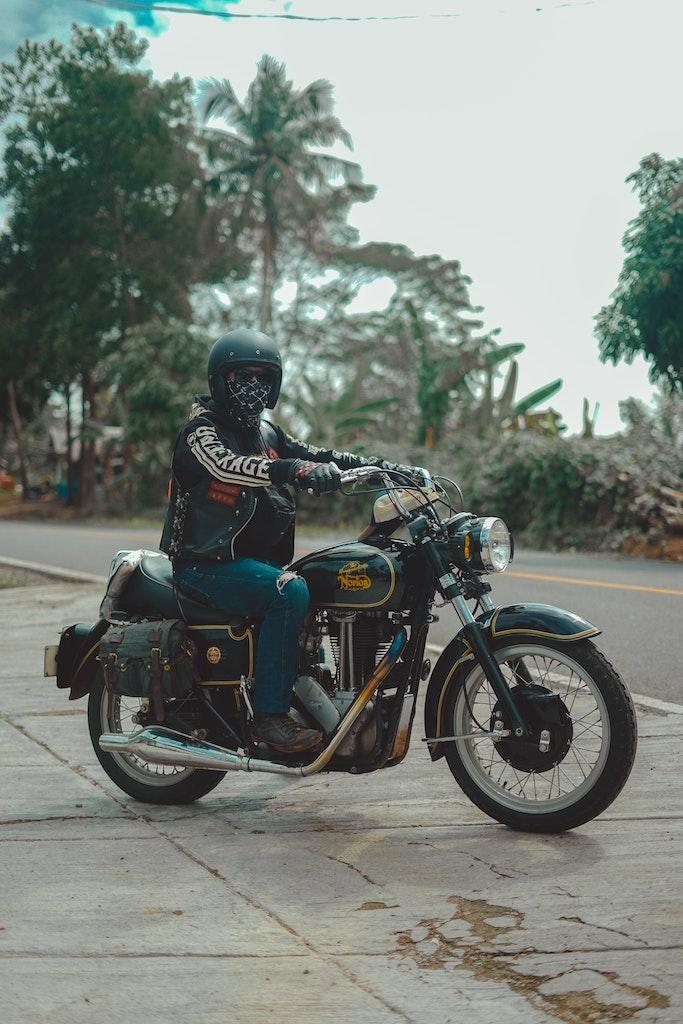helmet: (206, 328, 283, 432)
